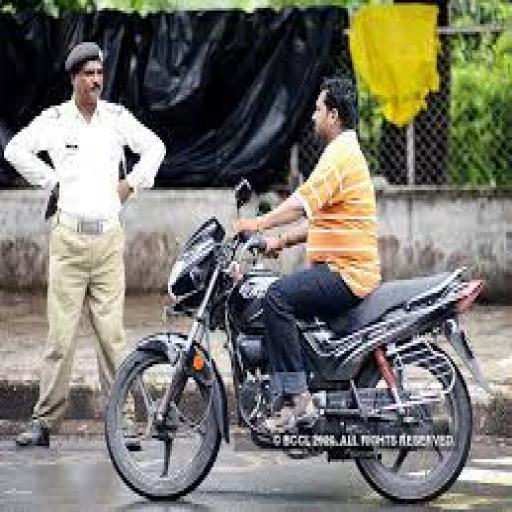helmet: (101, 177, 494, 504), (230, 74, 382, 435), (320, 74, 358, 127)
